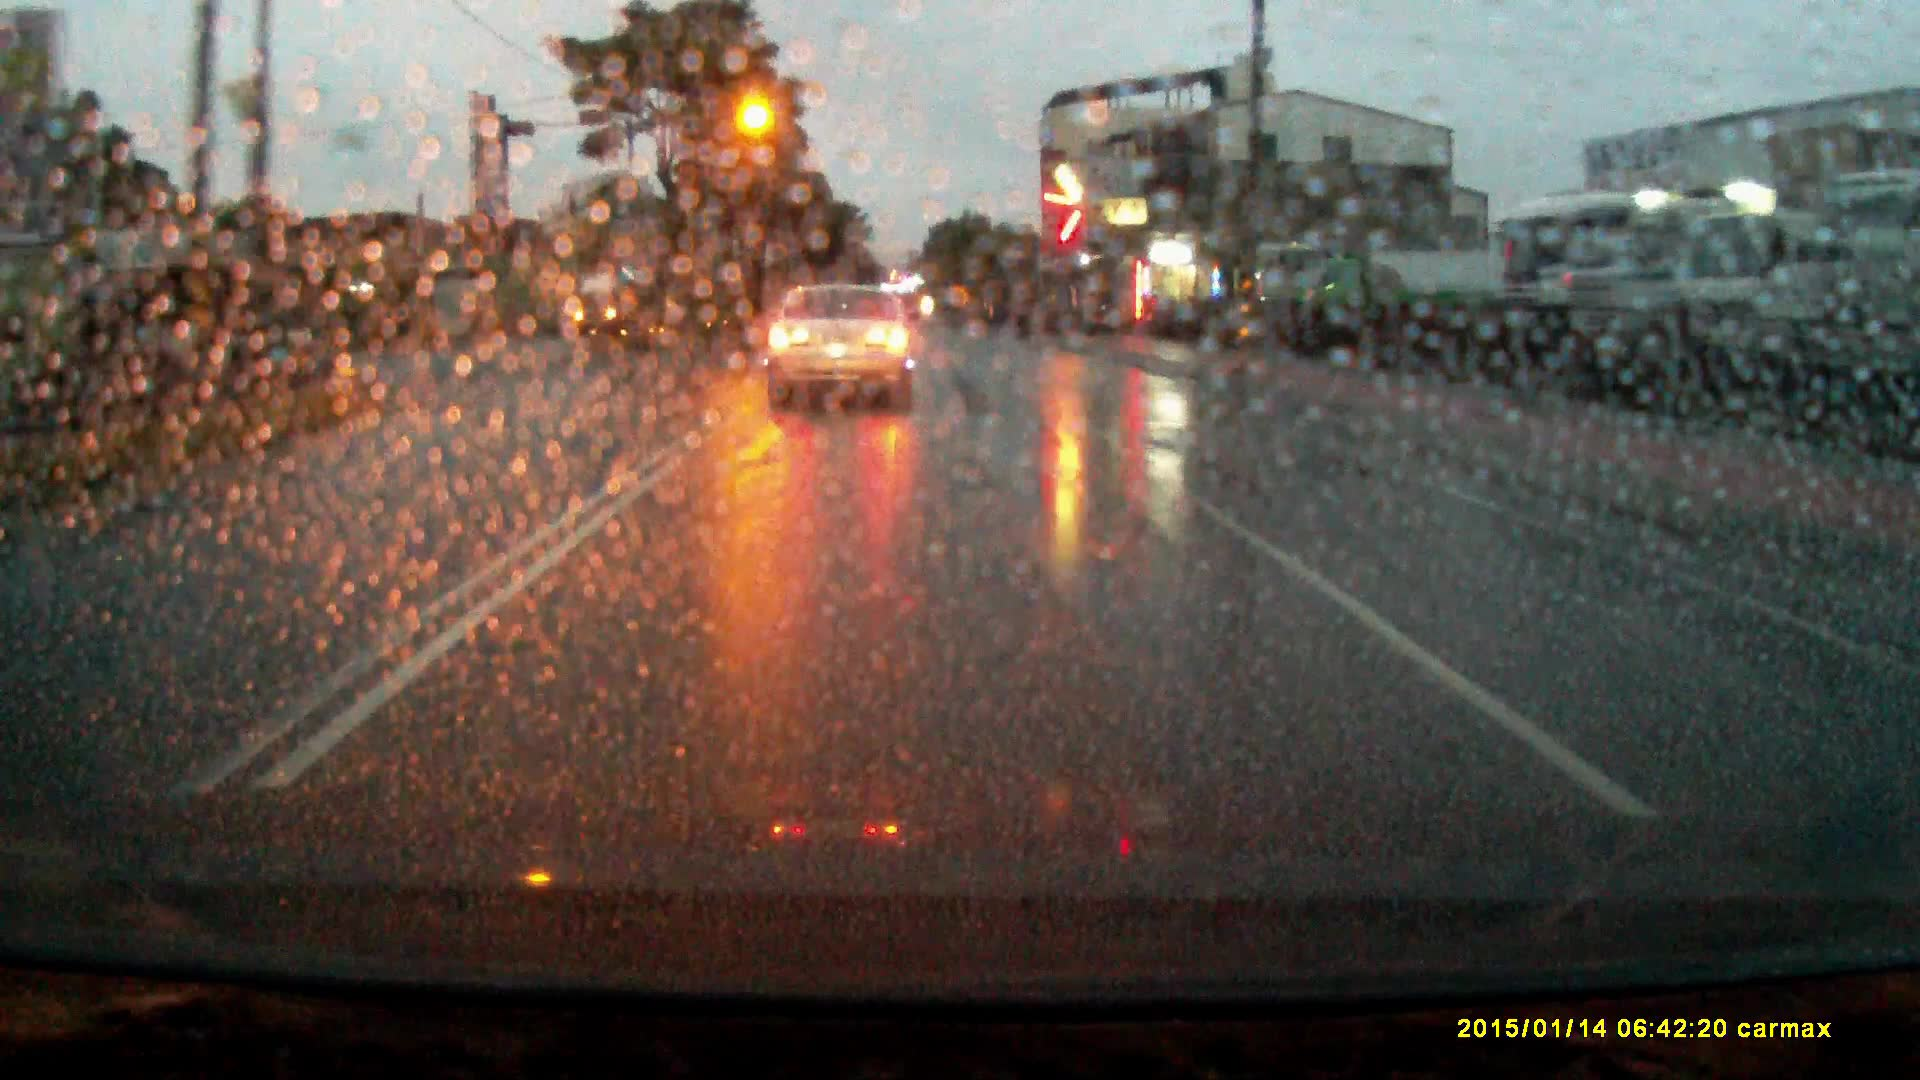vehicle: (1668, 214, 1836, 419), (1499, 193, 1640, 380), (766, 282, 922, 411), (1304, 251, 1495, 340), (1247, 241, 1331, 335), (574, 277, 632, 330)
